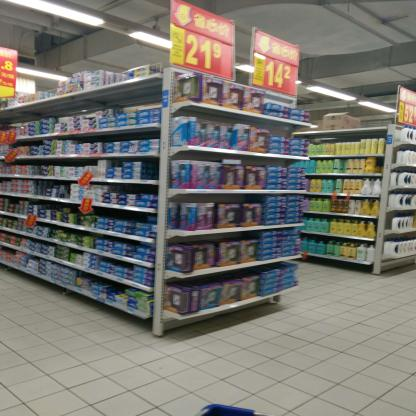Void: (102, 92, 154, 108), (187, 194, 257, 202), (273, 121, 307, 137), (100, 209, 144, 220), (142, 157, 156, 179), (102, 257, 132, 267), (182, 152, 219, 160), (89, 134, 155, 138), (57, 159, 95, 163), (110, 282, 119, 291)
